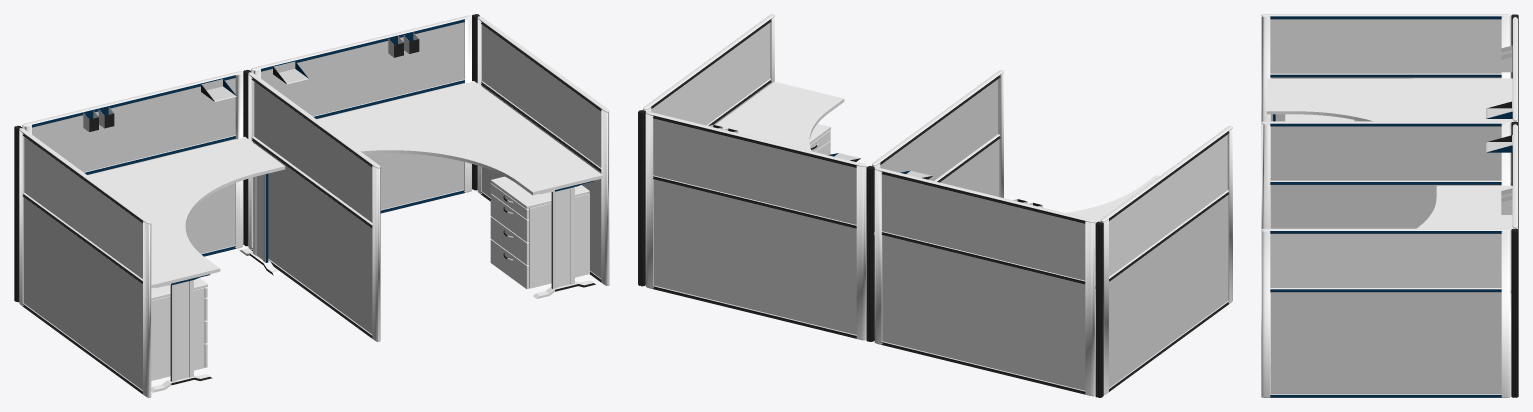
File: table_2.FBX
3 views of the same model, side by side, from view 1: azimuth 30°, elevation 25°; view 2: azimuth 150°, elevation 25°; view 3: azimuth 270°, elevation 25° (orthographic). The views are drawn at different scales.
Parts seen in each view (by area): view 1: Arch_52_055_81; view 2: Arch_52_055_81; view 3: Arch_52_055_81.
Boxes of the visible parts, x1,y1,x2,y2 form: Arch_52_055_81: (14,14,609,397); Arch_52_055_81: (638,14,1232,397); Arch_52_055_81: (1261,14,1518,397).
Bounding box in the file's own units: 3.68 × 1.32 × 1.84.
